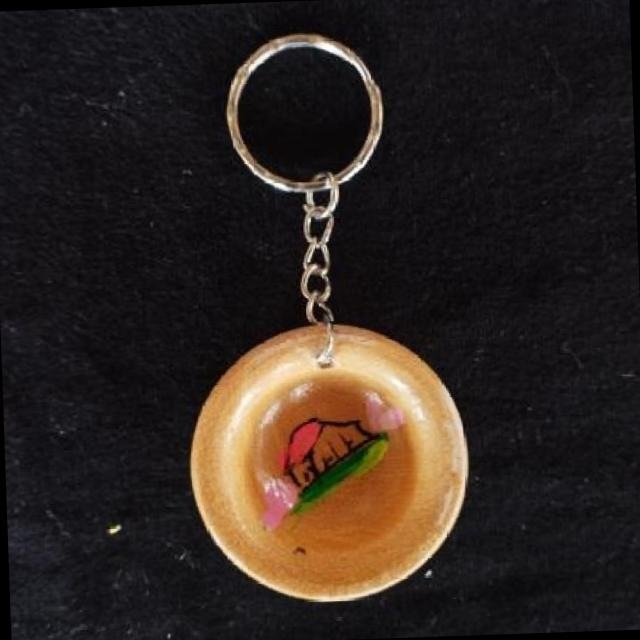Llavero: (183, 316, 474, 606)
